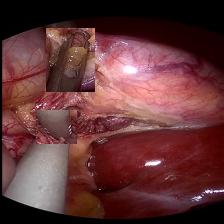Grasper: (45, 28, 94, 92)
Irrigator: (35, 110, 76, 144)
